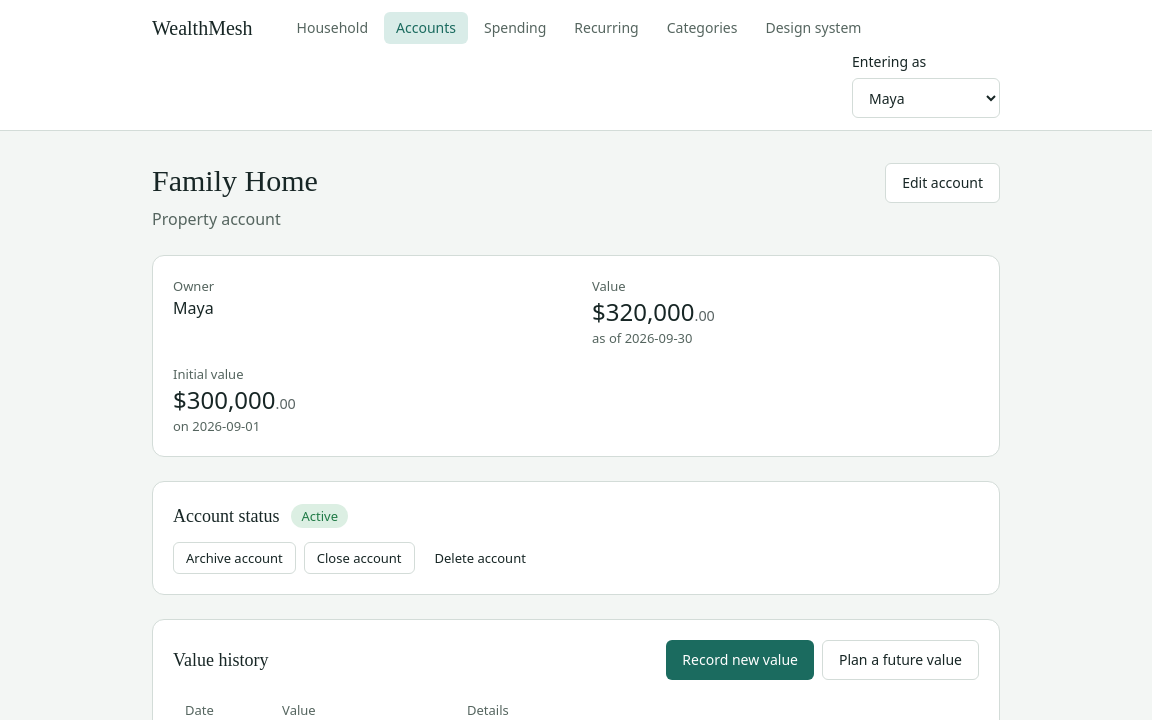
Test: words of the thing shown › V2_PROPERTY_003 the whole property page and its Close review say Value, never Balance (owner 2026-10-06)
Expected: the element named "Account details" is shown, left=152, top=255, right=1000, bottom=457
Click the button "Close account" at coordinates (359, 558), box left=304, top=542, right=415, bottom=574
(page scrolled)
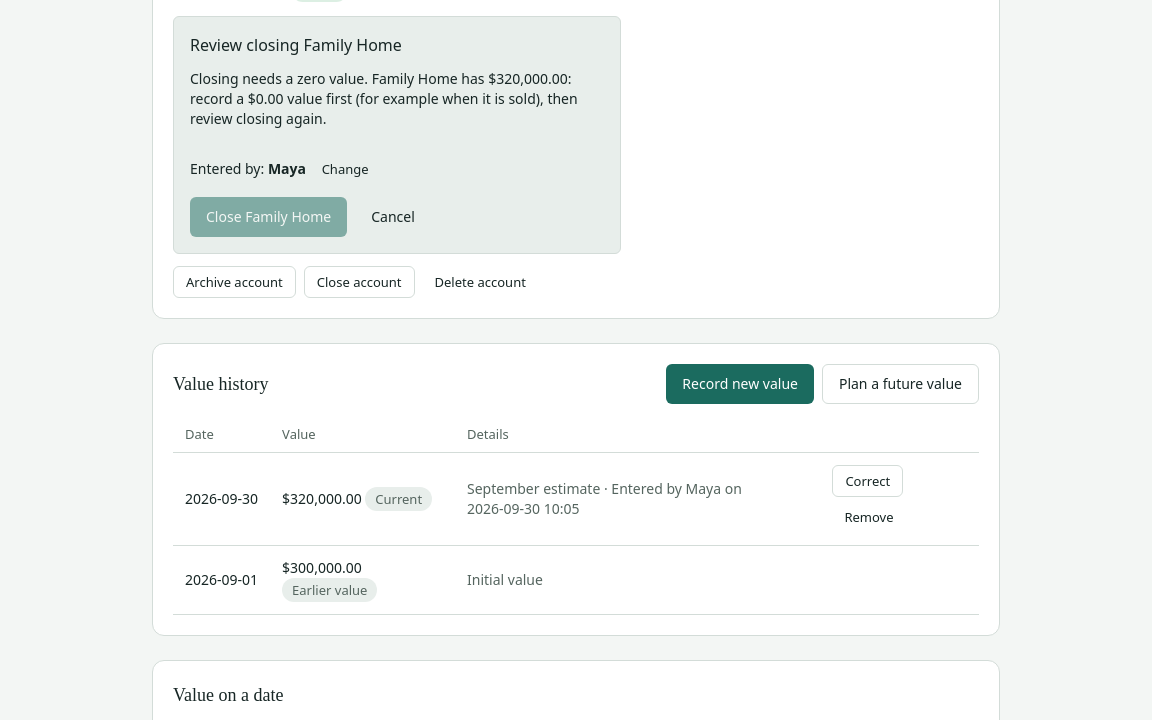
Expected: the element "Review closing Family Home" does not show "Balance", left=173, top=16, right=621, bottom=254
Expected: the element "Review closing Family Home" shows "Closing needs a zero value", left=190, top=69, right=372, bottom=88
